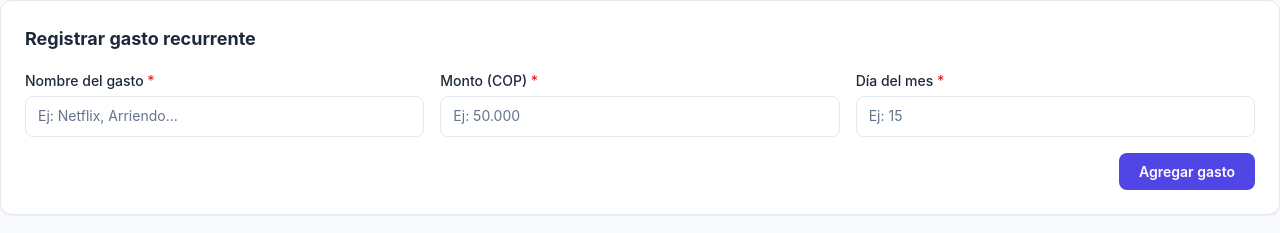
Test: ExpenseForm — formateo de monto en COP › agrega puntos de miles al escribir 4 dígitos
Type "5000" into the field labelled "Monto (COP)" at (640, 116), box [440,96,840,137]
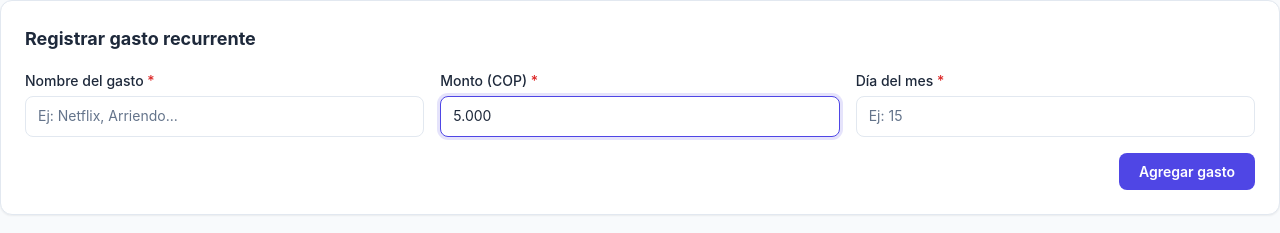
Check: the field labelled "Monto (COP)" holds "5.000", box [440,96,840,137]
